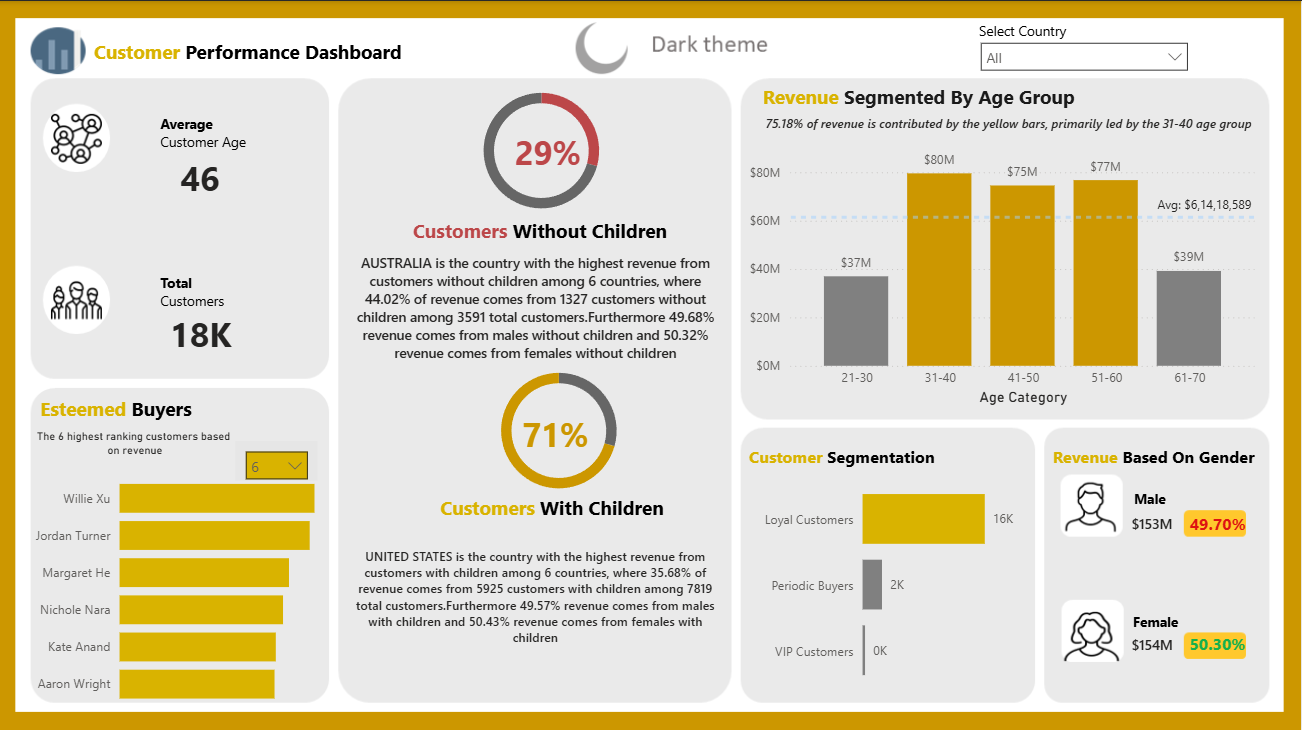

The dashboard page shown, as its layout file describes it:
{"tool":"powerbi","page":{"name":"Light","canvas":[1280,720],"ordinal":0},"visuals":[{"type":"clusteredColumnChart","fields":{"Y":["All measures.Total Revenue"],"Category":["DimCustomer.Age Category "]},"box":[731.7,133.3,508.3,268.3],"z":0},{"type":"cardVisual","fields":{"Data":["Customer Measures.Avg caption"]},"box":[723.3,86.7,556.7,63.3],"z":1000},{"type":"textbox","box":[745.1,75.9,339.6,39.8],"z":2000},{"type":"donutChart","fields":{"Y":["Customer Measures.% C without CH Revenue","Customer Measures.% CWC Revenue"]},"box":[437.4,71.7,191.6,151.8],"z":3000},{"type":"donutChart","fields":{"Y":["Customer Measures.% C without CH Revenue","Customer Measures.% CWC Revenue"]},"box":[454.3,346.3,191.6,151.8],"z":4000},{"type":"cardVisual","fields":{"Data":["Customer Measures.% C without CH Revenue"]},"box":[477.2,95.3,131.9,102],"z":5000},{"type":"cardVisual","fields":{"Data":["Customer Measures.% CWC Revenue"]},"box":[484.1,371.2,131.9,102],"z":6000},{"type":"cardVisual","fields":{"Data":["Customer Measures.Caption customers without children"]},"box":[321.2,197.5,410,205],"z":7000},{"type":"textbox","box":[375,207.5,316.2,40],"z":8000},{"type":"textbox","box":[375,480,340,40],"z":9000},{"type":"cardVisual","fields":{"Data":["Customer Measures.Caption customers with children"]},"box":[321.2,490,410,188.8],"z":10000},{"type":"clusteredBarChart","fields":{"Category":["DimCustomer.Customer type"],"Y":["Customer Measures.# customers"]},"box":[740,445,261.7,250],"z":11000},{"type":"clusteredBarChart","fields":{"Category":["DimCustomer.FullName"],"Y":["Customer Measures.Dynamic customers"]},"box":[25,446.2,296.2,258.8],"z":12000},{"type":"card","fields":{"Values":["Customer Measures.% Male Revenue"]},"box":[1152.5,497.5,88.8,36.2],"z":13000},{"type":"card","fields":{"Values":["Customer Measures.% Female Revenue"]},"box":[1157.5,618.8,78.8,30],"z":14000},{"type":"card","fields":{"Values":["Customer Measures.Avg Customer Age"]},"box":[153.4,152.1,88.3,44.2],"z":15000},{"type":"card","fields":{"Values":["Customer Measures.# customers"]},"box":[153.4,305.5,89.6,44.2],"z":16000},{"type":"textbox","box":[153.4,106.7,105.5,52.8],"z":17000},{"type":"textbox","box":[153.4,262.6,106.7,51.5],"z":18000},{"type":"textbox","box":[1108,595.1,71.2,35.6],"z":19000},{"type":"textbox","box":[1109.2,474.8,71.2,35.6],"z":20000},{"type":"textbox","box":[35.6,382.8,223.3,40.5],"z":21000},{"type":"card","fields":{"Values":["Customer Measures.Caption Ranking"]},"box":[24.5,412.3,218.4,46.6],"z":22000},{"type":"slicer","fields":{"Values":["TopNCustomers 2.TopNCustomers"]},"box":[231.9,431.9,81,39.3],"z":23000},{"type":"textbox","box":[1029.5,430.7,239.3,40.5],"z":24000},{"type":"card","fields":{"Values":["Customer Measures.Male Revenue"]},"box":[1067.5,493.7,128.7,44.6],"z":25000},{"type":"card","fields":{"Values":["Customer Measures.Female Revenue"]},"box":[1067.5,611.9,128.7,44.6],"z":26000},{"type":"textbox","box":[88,31.5,340.1,40.7],"z":27000},{"type":"slicer","fields":{"Values":["DimGeography.Country"]},"box":[953.3,30.2,223.2,42],"z":28000},{"type":"textbox","box":[731.4,430.7,239,39.4],"z":29000},{"type":"shape","box":[559.4,15.8,203.5,56.5],"z":30000},{"type":"textbox","box":[957.2,14.4,223.2,30.2],"z":30001}]}

Visuals, with their boxes in screenshot pixels (x1, y1, x2, y2), scaled from the page's 1280x720 canvas onto the 1302x730 screenshot:
clusteredColumnChart - All measures.Total Revenue x DimCustomer.Age Category : bbox=[744, 135, 1261, 407]
cardVisual - Customer Measures.Avg caption: bbox=[736, 88, 1301, 152]
textbox: bbox=[758, 77, 1103, 117]
donutChart - Customer Measures.% C without CH Revenue x Customer Measures.% CWC Revenue: bbox=[445, 73, 640, 227]
donutChart - Customer Measures.% C without CH Revenue x Customer Measures.% CWC Revenue: bbox=[462, 351, 657, 505]
cardVisual - Customer Measures.% C without CH Revenue: bbox=[485, 97, 620, 200]
cardVisual - Customer Measures.% CWC Revenue: bbox=[492, 376, 627, 480]
cardVisual - Customer Measures.Caption customers without children: bbox=[327, 200, 744, 408]
textbox: bbox=[381, 210, 703, 251]
textbox: bbox=[381, 487, 727, 527]
cardVisual - Customer Measures.Caption customers with children: bbox=[327, 497, 744, 688]
clusteredBarChart - DimCustomer.Customer type x Customer Measures.# customers: bbox=[753, 451, 1019, 705]
clusteredBarChart - DimCustomer.FullName x Customer Measures.Dynamic customers: bbox=[25, 452, 327, 715]
card - Customer Measures.% Male Revenue: bbox=[1172, 504, 1263, 541]
card - Customer Measures.% Female Revenue: bbox=[1177, 627, 1258, 658]
card - Customer Measures.Avg Customer Age: bbox=[156, 154, 246, 199]
card - Customer Measures.# customers: bbox=[156, 310, 247, 355]
textbox: bbox=[156, 108, 263, 162]
textbox: bbox=[156, 266, 265, 318]
textbox: bbox=[1127, 603, 1199, 639]
textbox: bbox=[1128, 481, 1201, 517]
textbox: bbox=[36, 388, 263, 429]
card - Customer Measures.Caption Ranking: bbox=[25, 418, 247, 465]
slicer - TopNCustomers 2.TopNCustomers: bbox=[236, 438, 318, 478]
textbox: bbox=[1047, 437, 1291, 478]
card - Customer Measures.Male Revenue: bbox=[1086, 501, 1217, 546]
card - Customer Measures.Female Revenue: bbox=[1086, 620, 1217, 666]
textbox: bbox=[90, 32, 435, 73]
slicer - DimGeography.Country: bbox=[970, 31, 1197, 73]
textbox: bbox=[744, 437, 987, 477]
shape: bbox=[569, 16, 776, 73]
textbox: bbox=[974, 15, 1201, 45]
